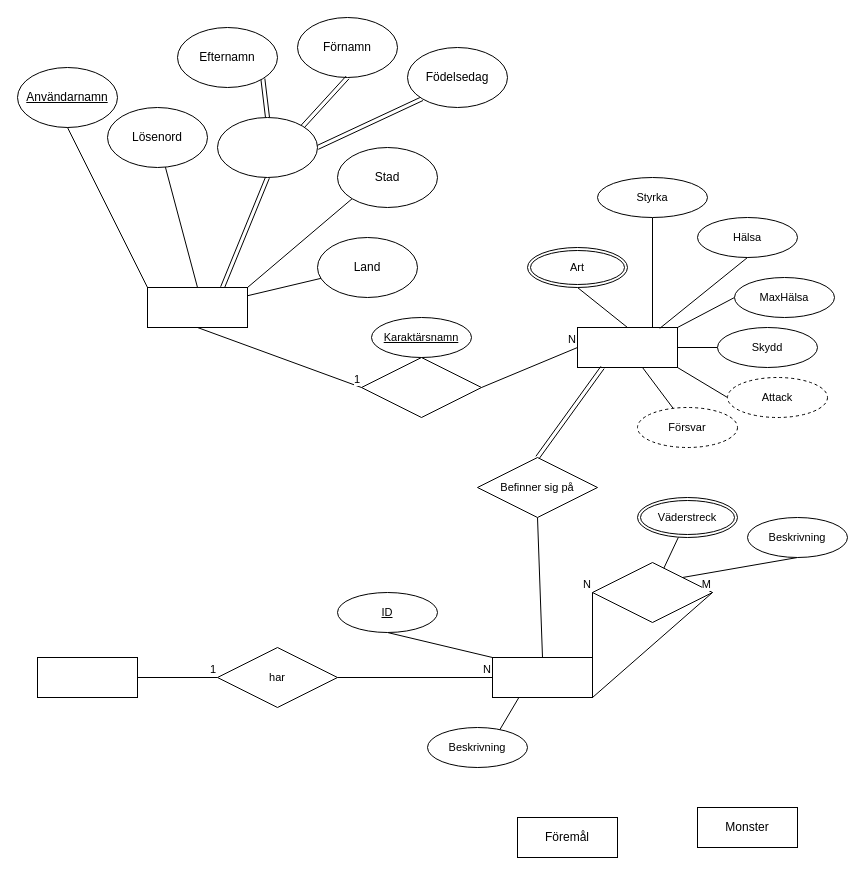
The diagram is 865 pixels wide and 875 high, and some of its shapes have lost their labels. The centre of each missing label's shape, as x and y in pixels:
"Användare" goes at point 197,307.
"Karaktär" goes at point 627,347.
"Namn" goes at point 267,147.
"Plats" goes at point 542,677.
"Spelvärld" goes at point 87,677.
"Stig" goes at point 652,592.
"Äger" goes at point 421,387.
